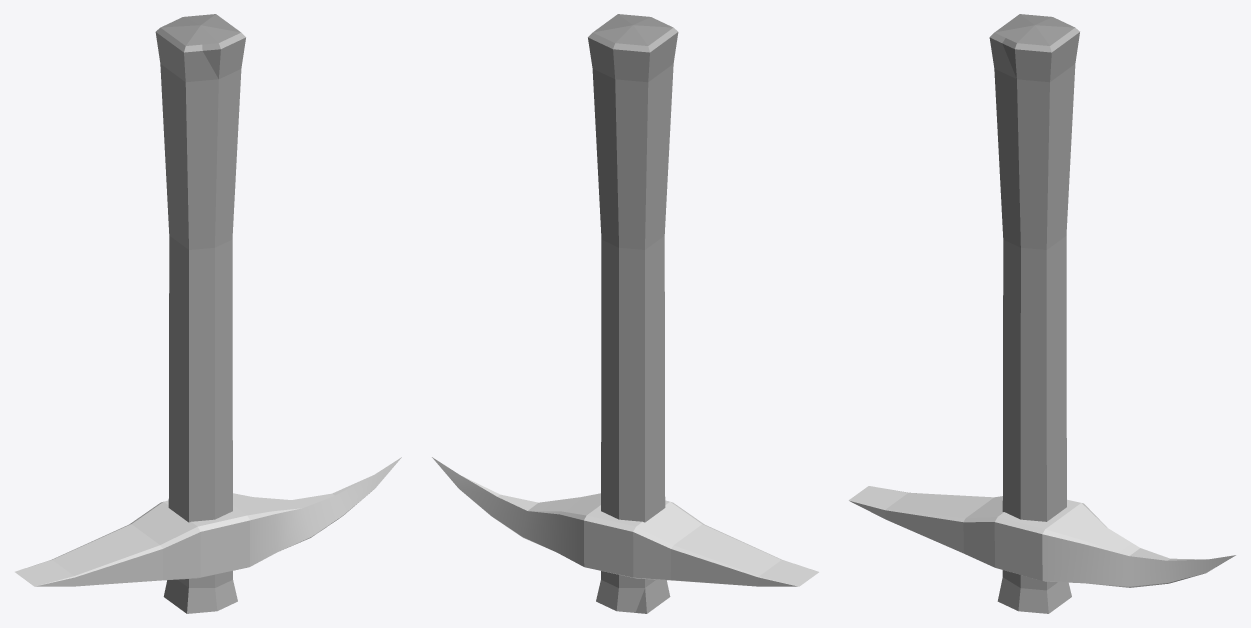
File: PT_Pickaxe_02.fbx
3 views of the same model, side by side, from view 1: azimuth 30°, elevation 25°; view 2: azimuth 150°, elevation 25°; view 3: azimuth 330°, elevation 25° (orthographic).
Parts seen in each view (by area): view 1: PT_Pickaxe_02; view 2: PT_Pickaxe_02; view 3: PT_Pickaxe_02.
Part boxes in pixels (left/top/right/bottom): PT_Pickaxe_02: left=15, top=14, right=401, bottom=613; PT_Pickaxe_02: left=432, top=14, right=818, bottom=613; PT_Pickaxe_02: left=848, top=14, right=1235, bottom=613.
Bounding box in the file's own units: 25.72 × 37.99 × 4.93.
1 material, 1 textured.
